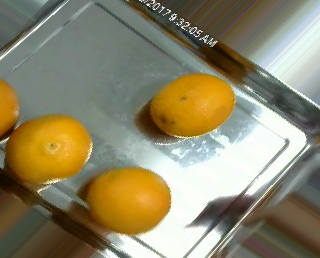Orange: (4, 113, 91, 183), (86, 166, 171, 235), (150, 73, 236, 137)
